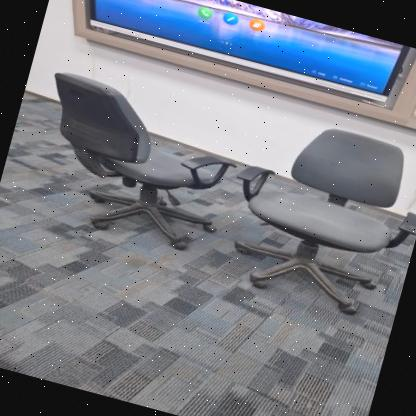chair: (205, 101, 416, 331), (16, 62, 254, 262)
